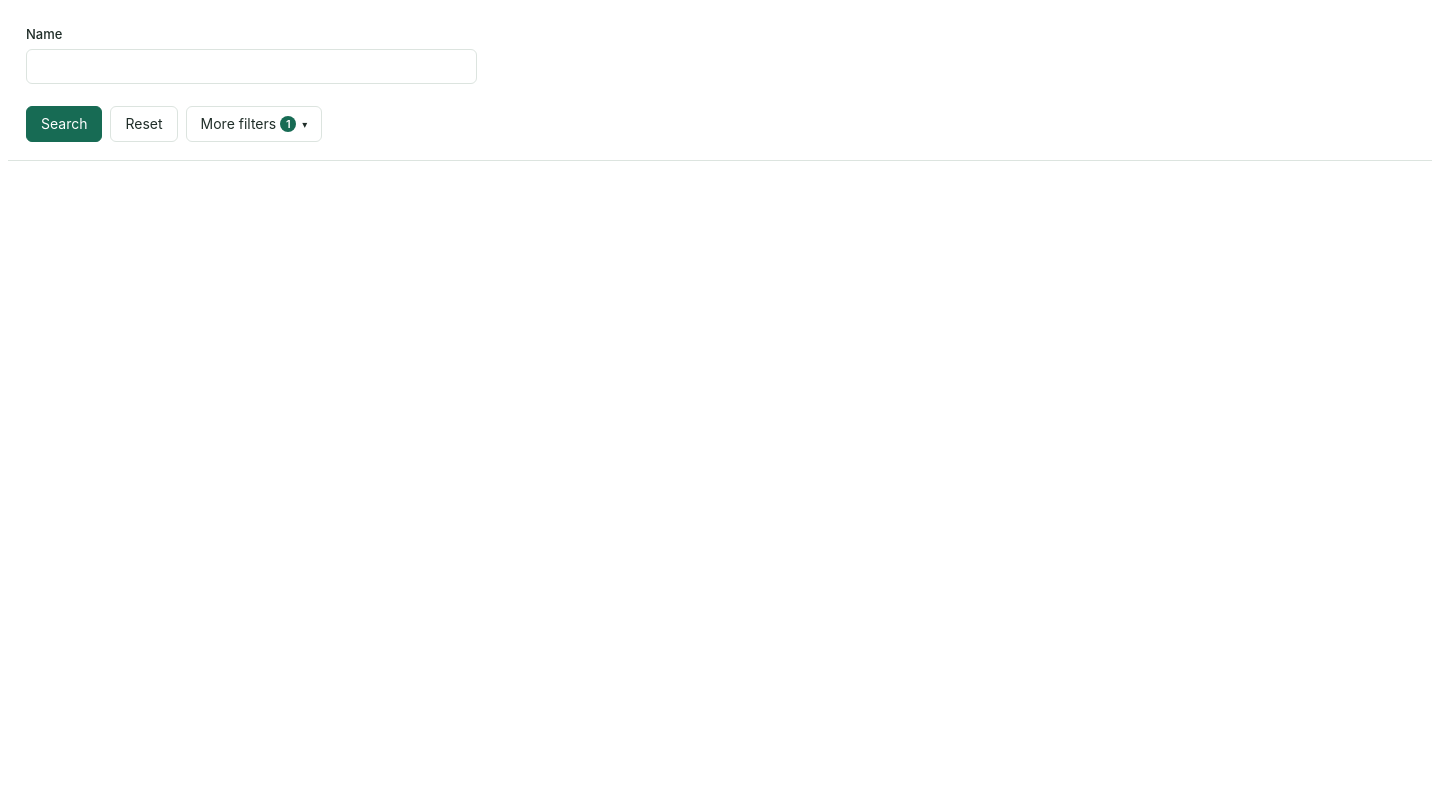
Test case: popover search runs field rules before searching
What coordinates should you click on to do the following:
click the button with test id "rac-more-filters"
I would click on:
 (254, 124)
Its box is [186, 106, 322, 142].
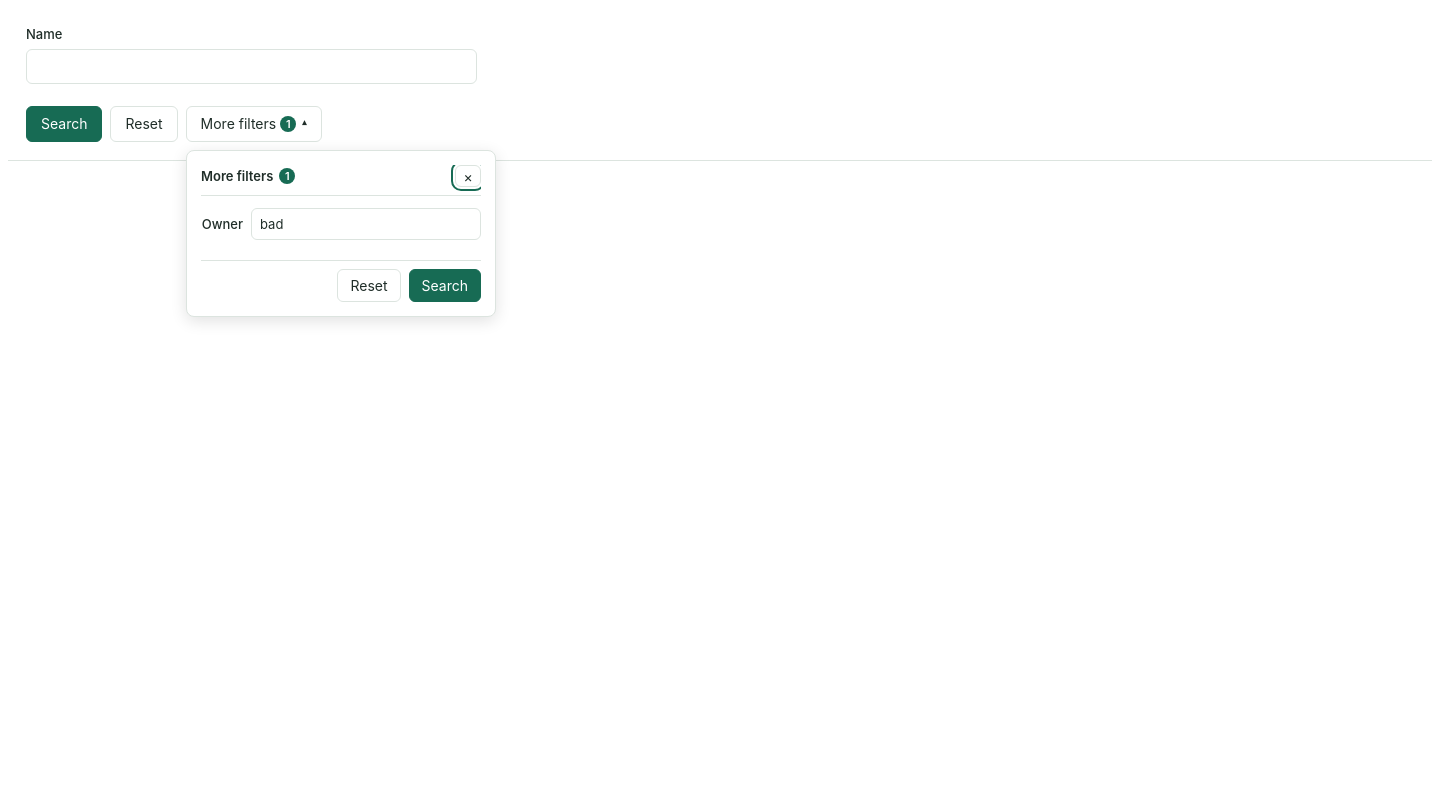
Now the button named "Close" is shown, box [455, 165, 481, 187]
What coordinates should you click on to do the following:
click the button "Search" below "Owner"
I would click on:
 (445, 286)
Its box is [408, 269, 481, 302].
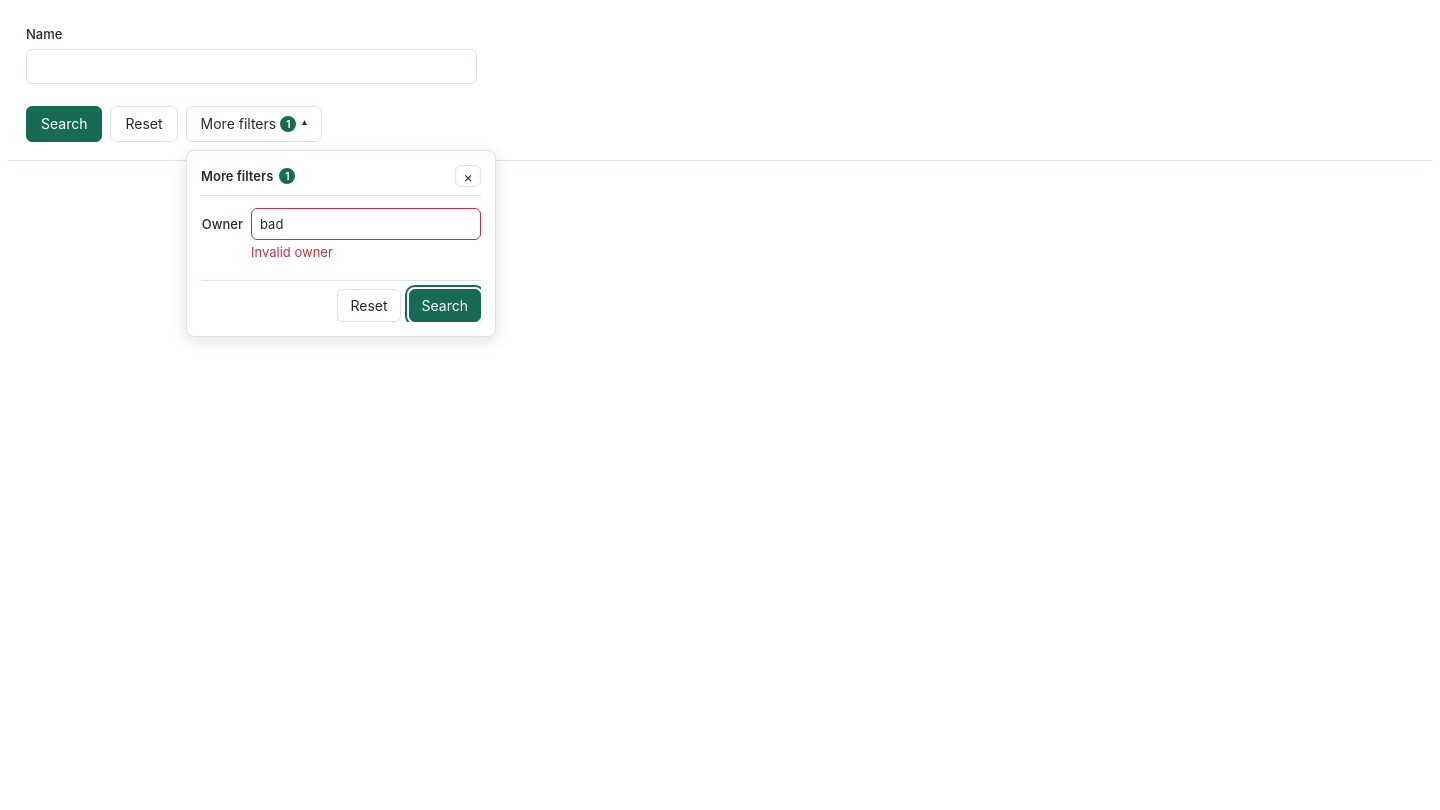
Now the text "Invalid owner" is shown, box [251, 244, 333, 260]
